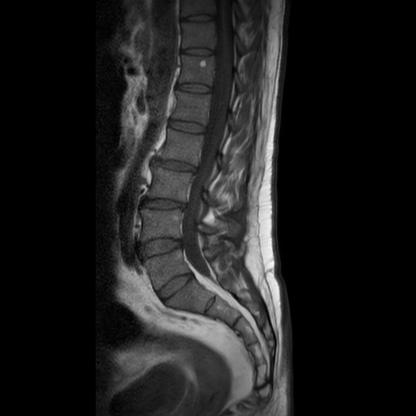Degenerative Disc Diseaserotation: (153, 157, 201, 175), (144, 196, 186, 215)
Disc Bulgerotation: (153, 157, 201, 175), (142, 237, 184, 257), (144, 196, 186, 214)
